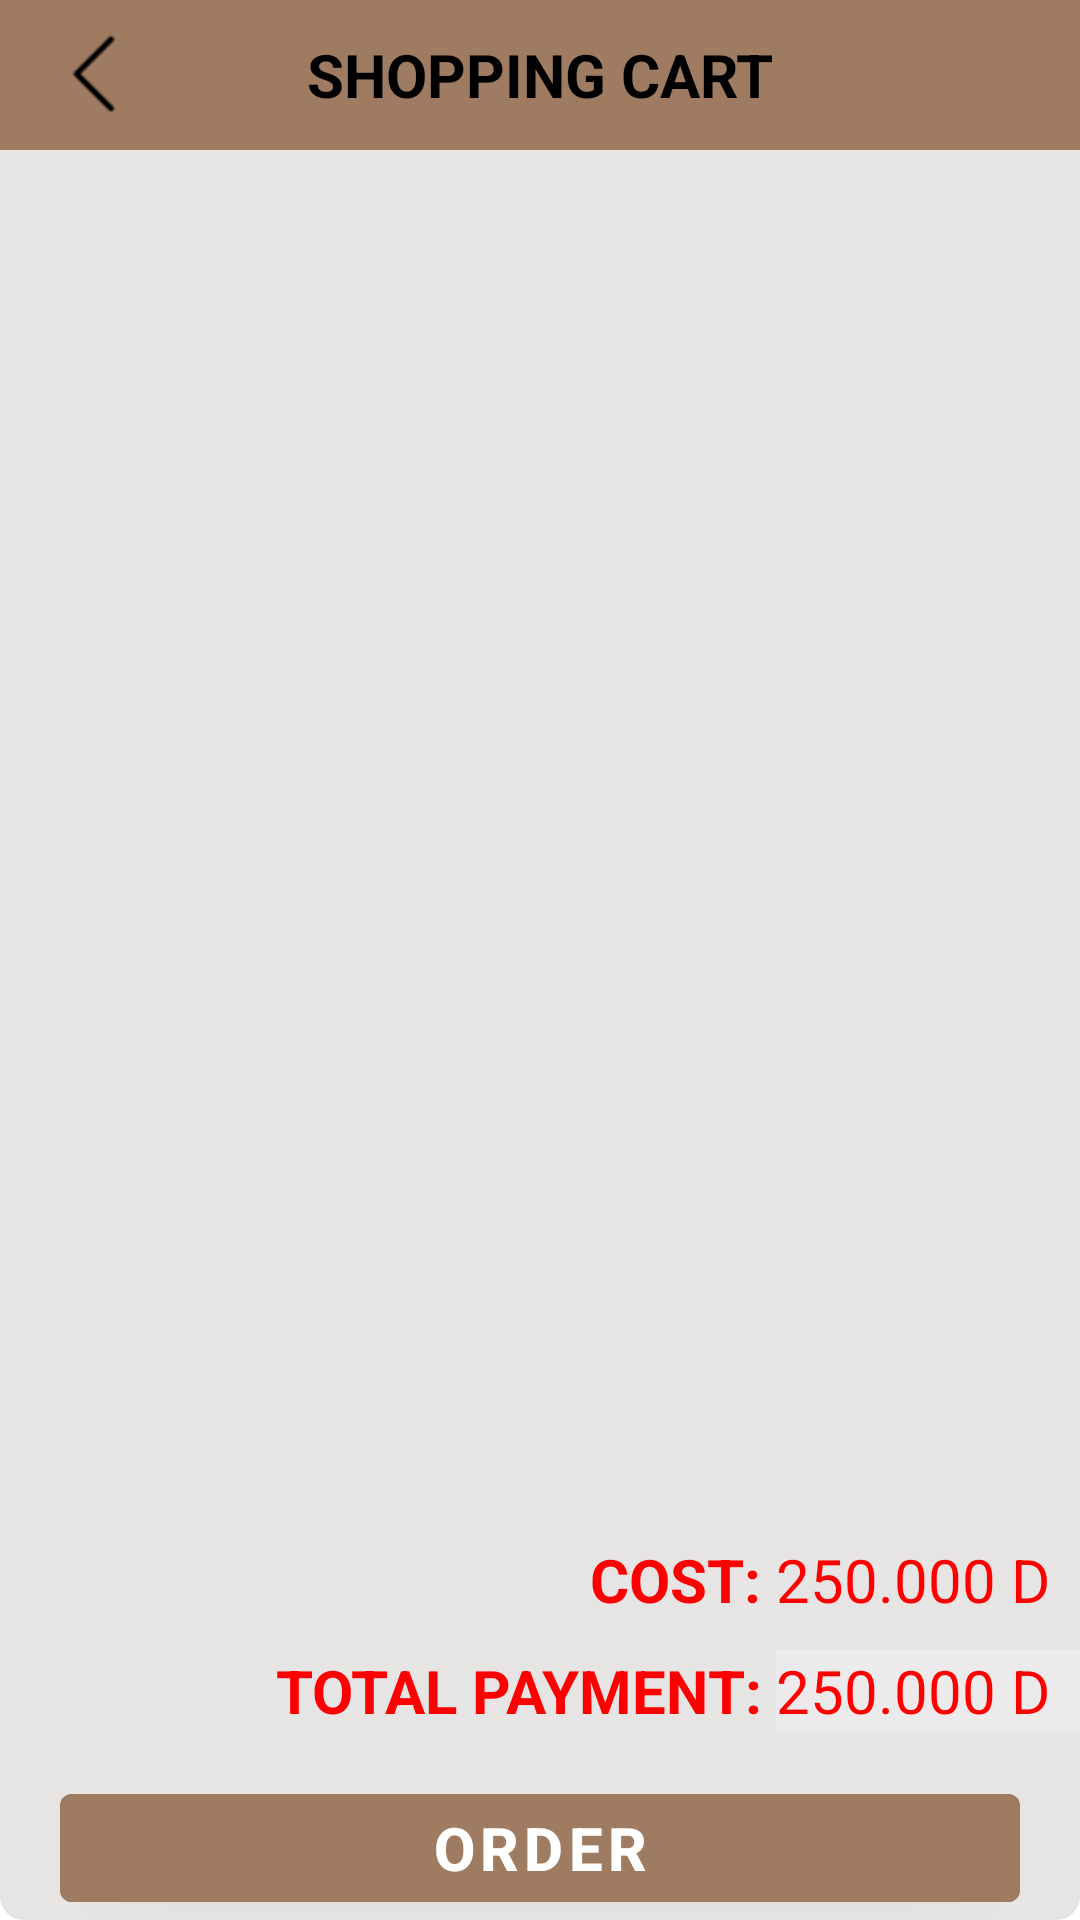

Icon click points for this 1080 × 1920 phone screenshot, format point (x, y):
back: point (94, 74)
